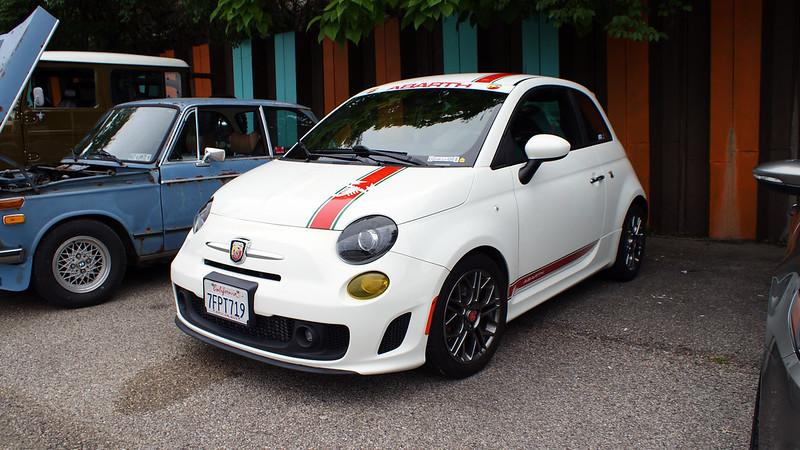windshield: (259, 89, 511, 184)
